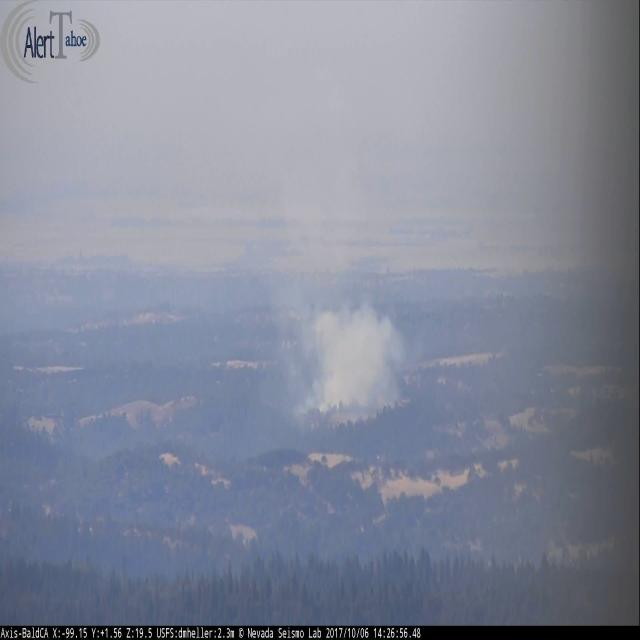smoke: (279, 294, 399, 425)
